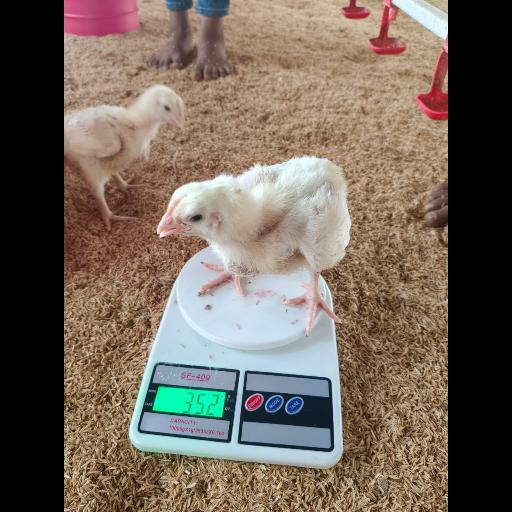chick: (157, 157, 351, 336)
